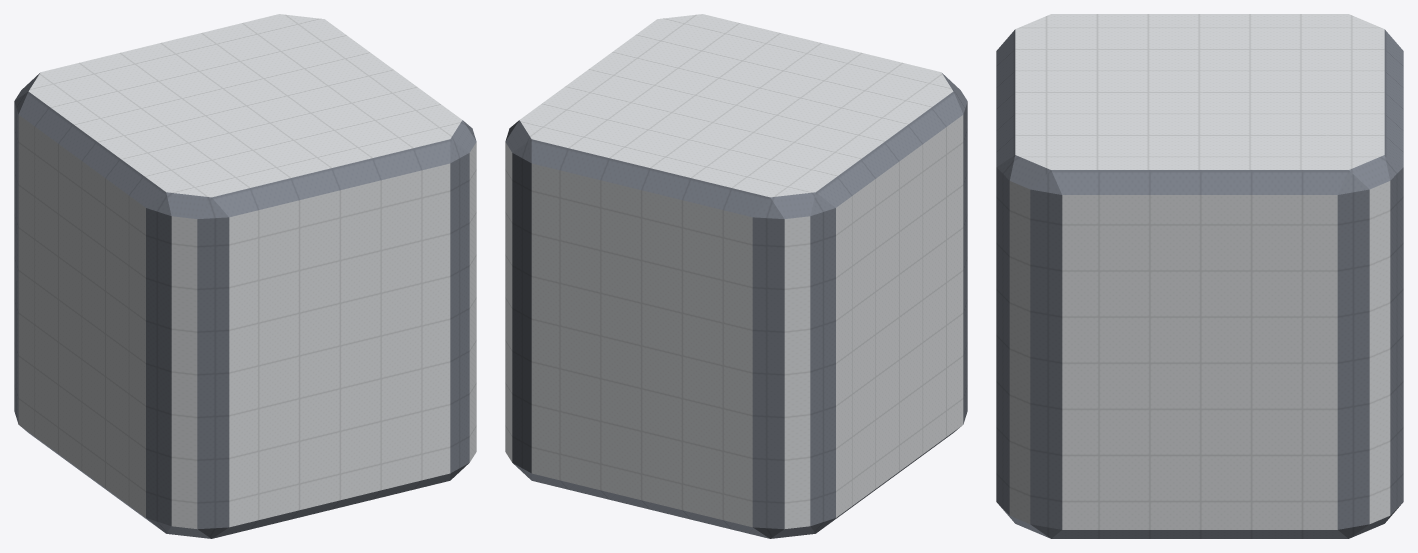
Rendered from R4B_OctColumn_LOD1.glb.
The picture shows the model from 3 angles, left to right: view 1: azimuth 30°, elevation 25°; view 2: azimuth 150°, elevation 25°; view 3: azimuth 270°, elevation 25°; orthographic projection. The views are drawn at different scales.
Parts seen in each view (by area): view 1: R4B_OctColumn_LOD1; view 2: R4B_OctColumn_LOD1; view 3: R4B_OctColumn_LOD1.
Boxes of the visible parts, bbox=[...] form: R4B_OctColumn_LOD1: bbox=[14, 14, 476, 538]; R4B_OctColumn_LOD1: bbox=[505, 14, 967, 538]; R4B_OctColumn_LOD1: bbox=[996, 14, 1403, 538].
Bounding box in the file's own units: 0.52 × 0.52 × 0.52.
2 materials, 2 textured.
